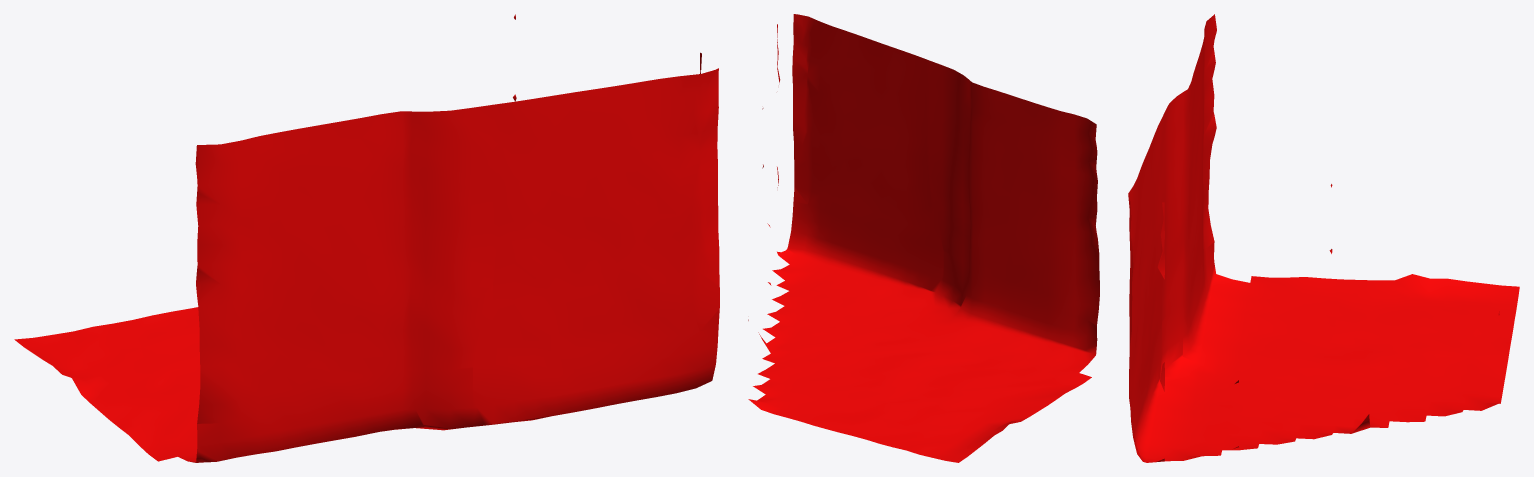
3 renders of one model, left to right at view 1: azimuth 30°, elevation 25°; view 2: azimuth 150°, elevation 25°; view 3: azimuth 270°, elevation 25°, orthographic. The views are drawn at different scales.
Visible parts, largest first — view 1: Capsule; view 2: Capsule; view 3: Capsule.
Part boxes in pixels (left/top/right/bottom): Capsule: left=14, top=14, right=719, bottom=462; Capsule: left=748, top=14, right=1099, bottom=462; Capsule: left=1128, top=14, right=1519, bottom=462.
Bounding box in the file's own units: 154 × 102 × 131.
